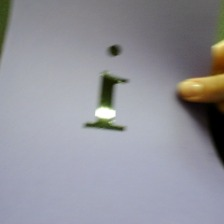violet1: (74, 40, 137, 137)
